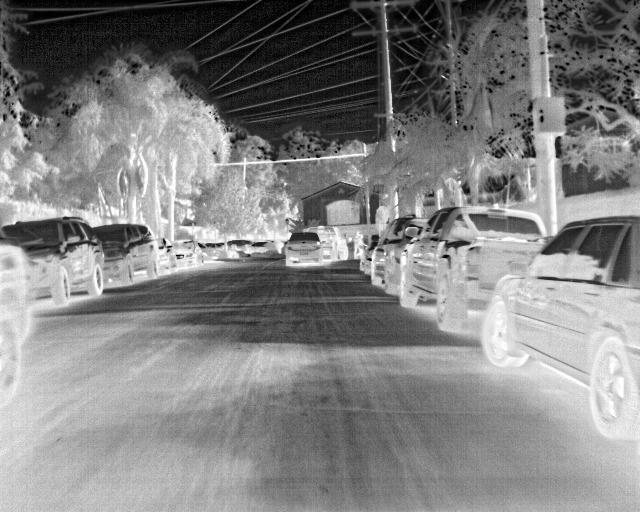car: (484, 215, 639, 443), (398, 205, 551, 332), (6, 216, 103, 302), (0, 240, 36, 411), (369, 214, 428, 298), (90, 224, 156, 286), (283, 232, 324, 270), (312, 225, 348, 259), (173, 239, 203, 272), (357, 238, 380, 276), (155, 236, 175, 275), (226, 238, 253, 254), (252, 238, 274, 254)
